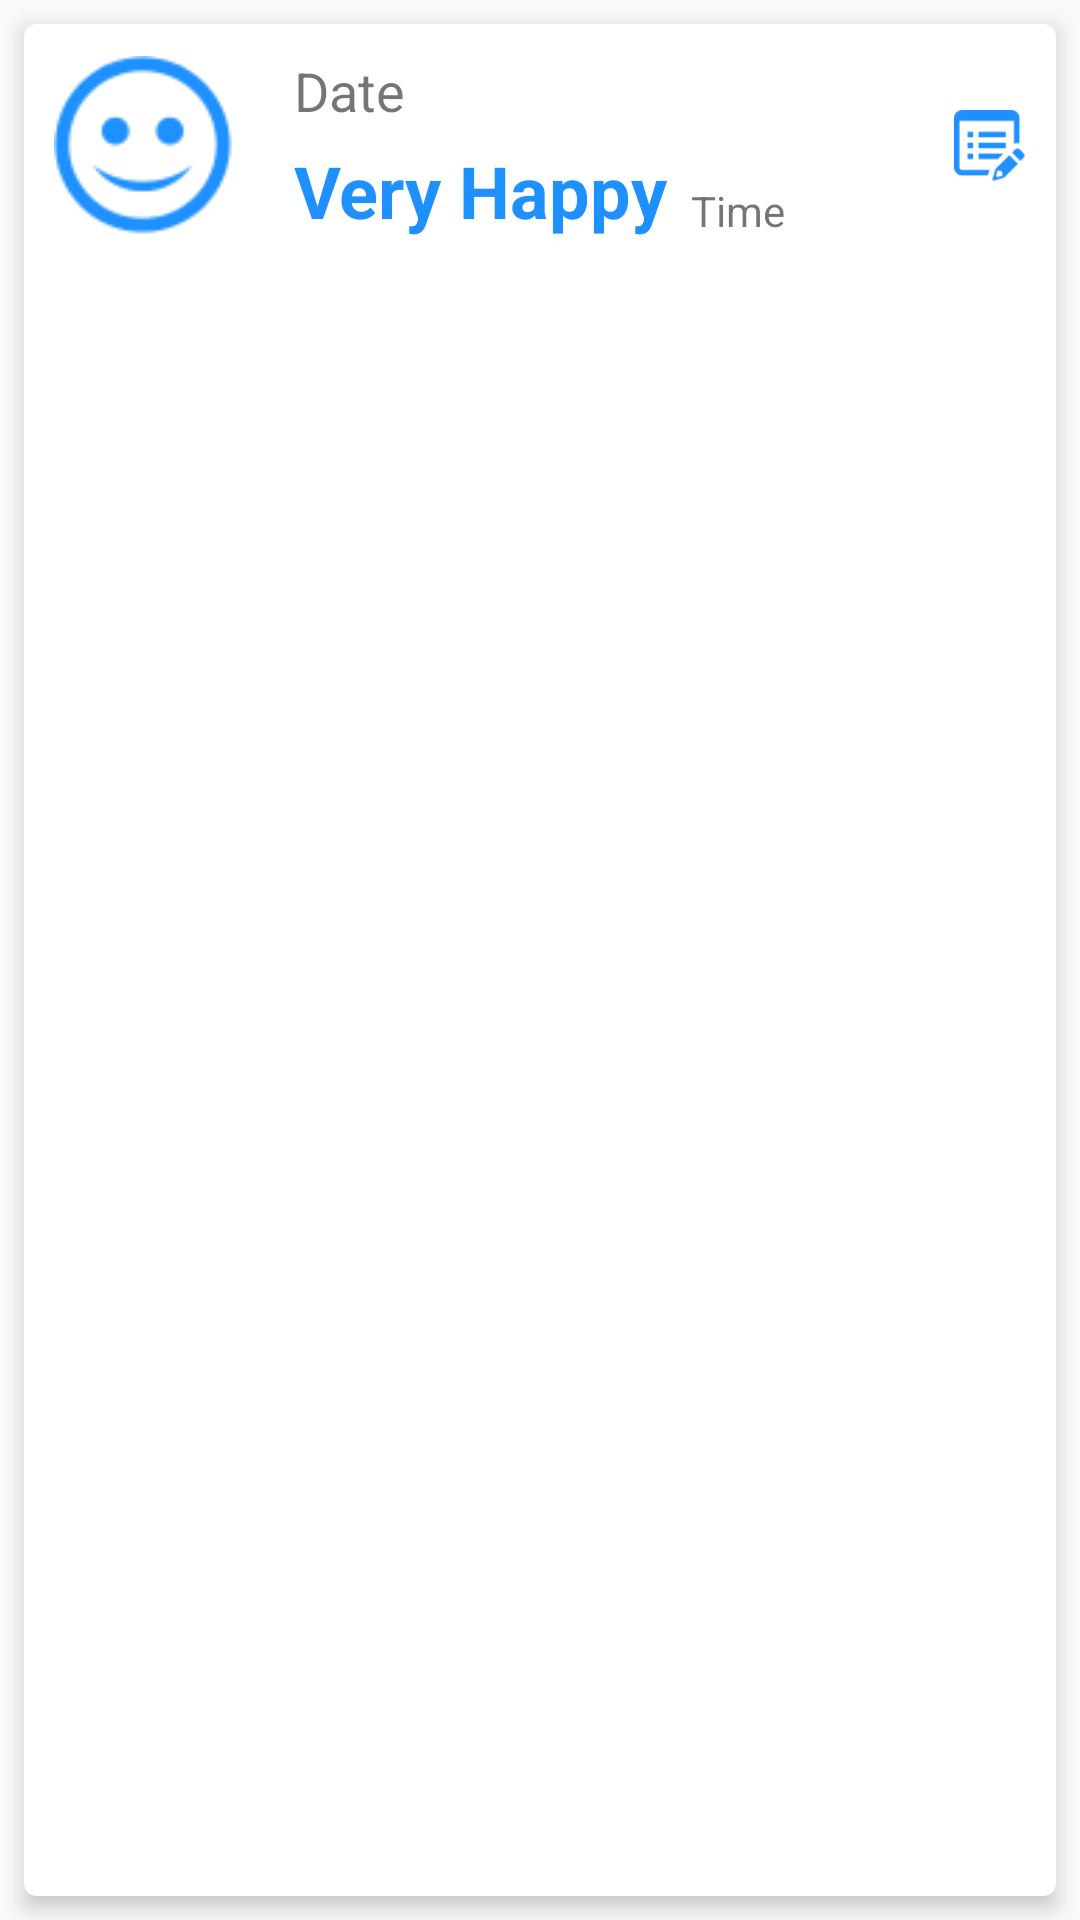

Icon bounding boxes for this 1080px x 1920px phone screenshot, format Rect(x1, y1, x2, y2):
edit: Rect(954, 110, 1025, 181)
